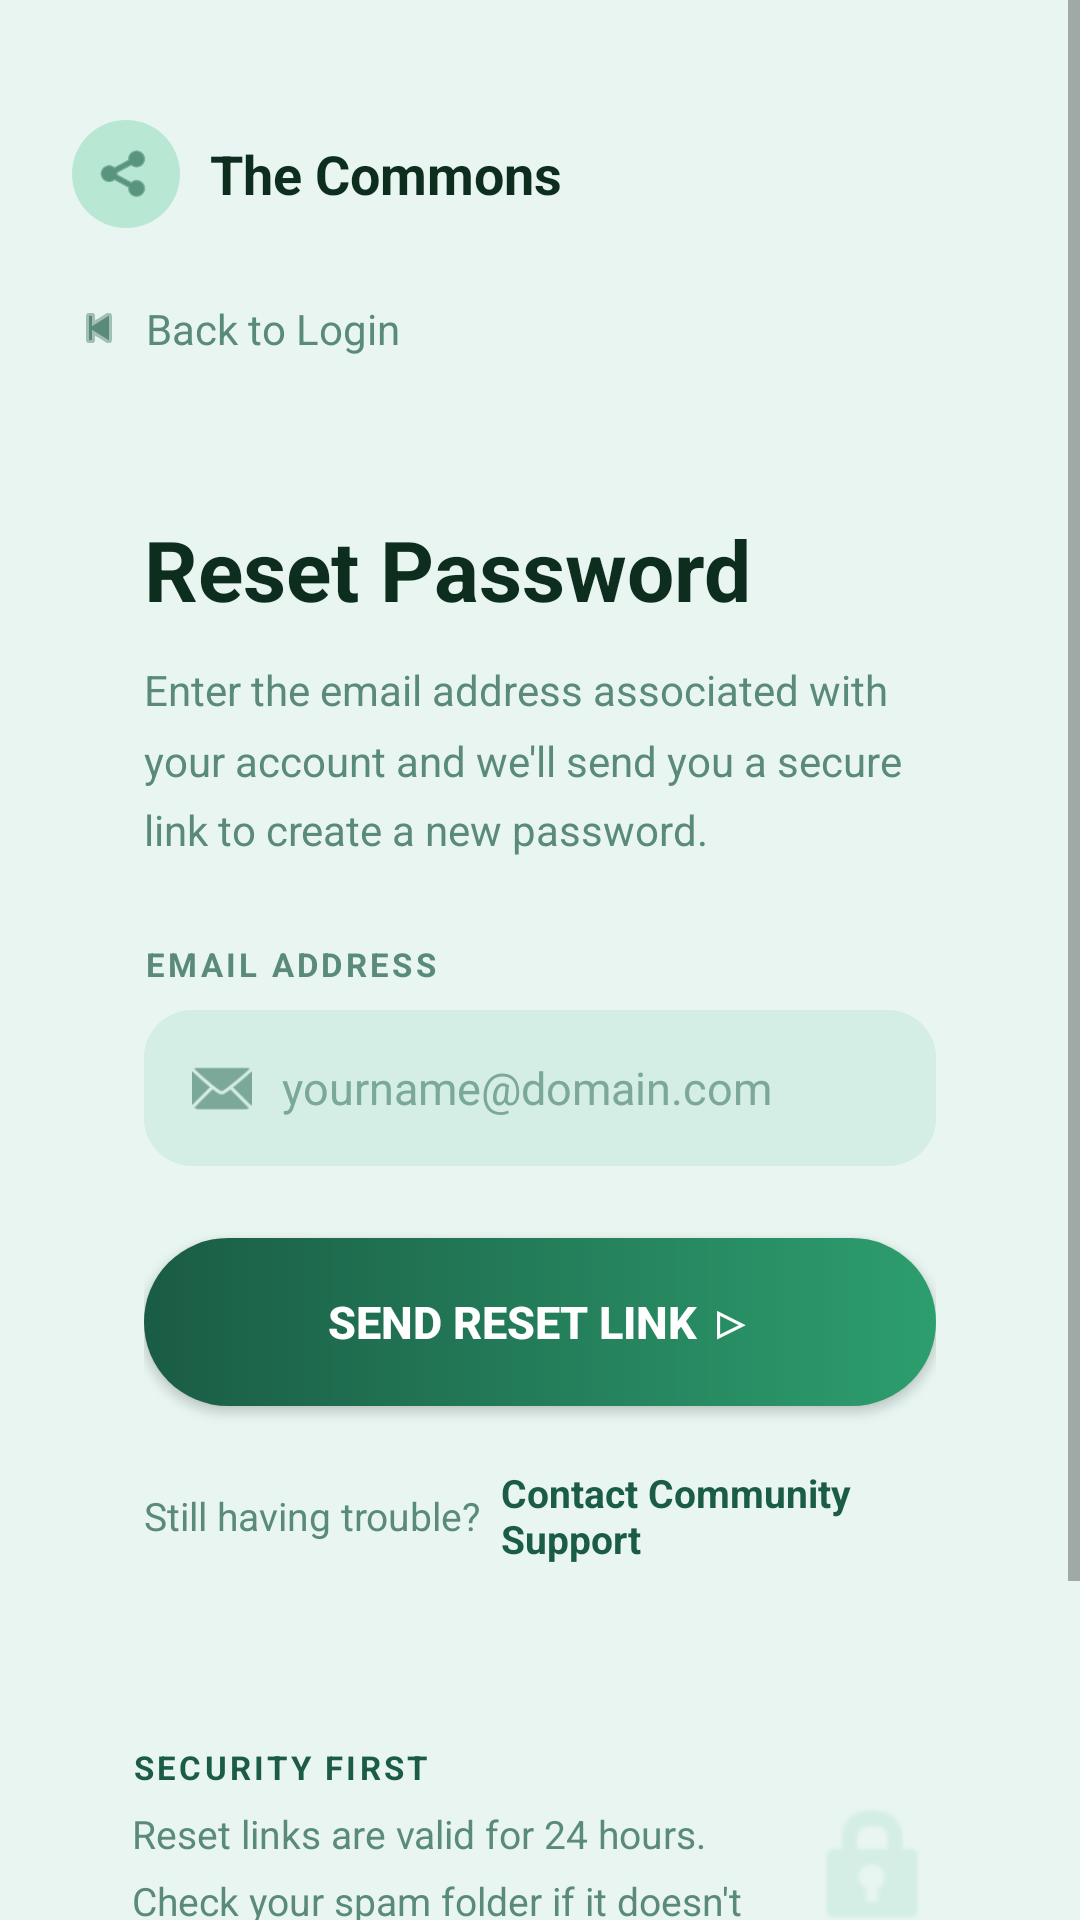

Point at icon controls on the screen. Image size 1080 x 1920, points as [x,y].
previous: [99,328]
share: [122,173]
